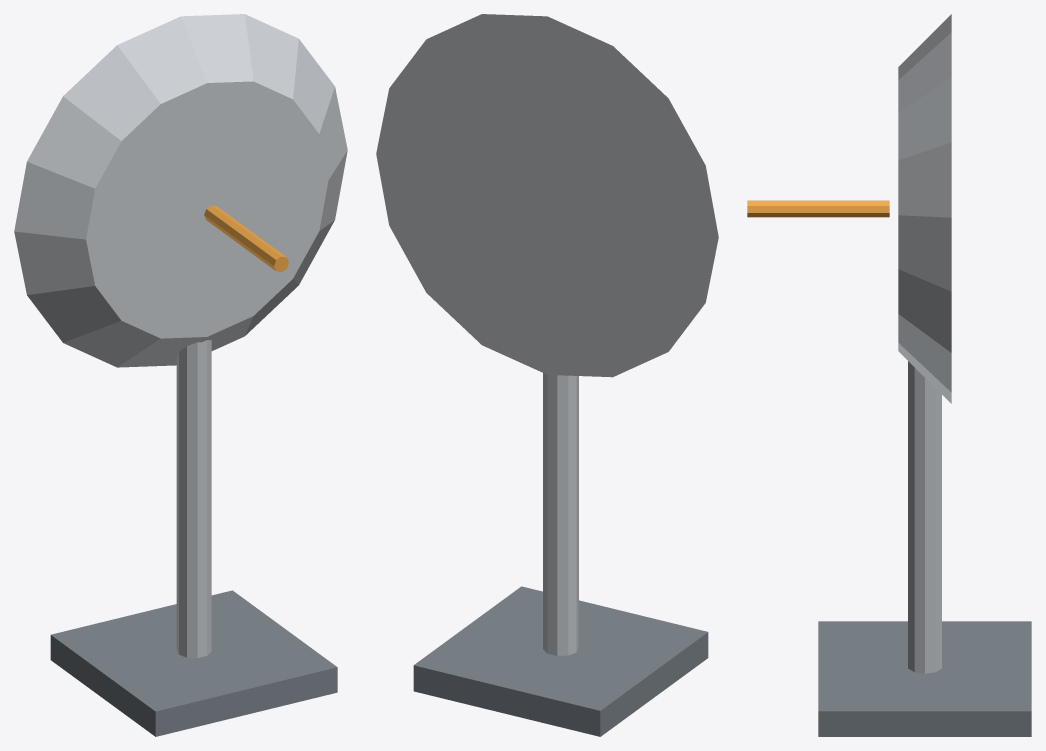
The model's file is mech-hangar-and-battle-frames-comms-dish-f2b6c65b__26990.glb.
The picture shows the model from 3 angles, left to right: view 1: azimuth 30°, elevation 25°; view 2: azimuth 150°, elevation 25°; view 3: azimuth 270°, elevation 25°; orthographic projection. The views are drawn at different scales.
Parts seen in each view (by area): view 1: comms-dish; view 2: comms-dish; view 3: comms-dish.
Boxes of the visible parts, <box> form: comms-dish: <box>14,14,347,736</box>; comms-dish: <box>376,14,718,736</box>; comms-dish: <box>747,14,1031,736</box>.
Bounding box in the file's own units: 1.1 × 2.05 × 0.8.
